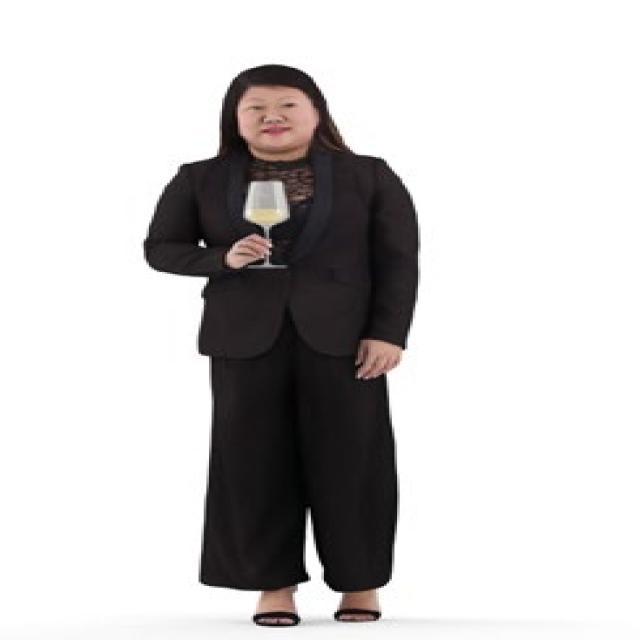standing: (141, 64, 424, 632)
